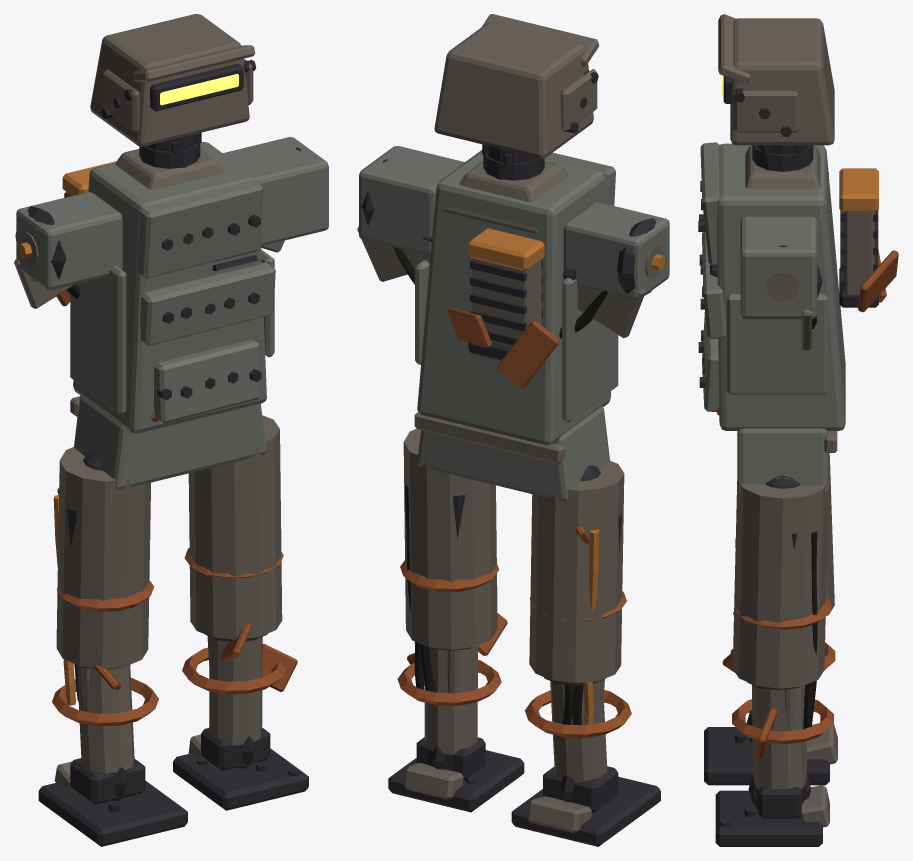
File: ch_bulwark.glb
The picture shows the model from 3 angles, left to right: view 1: azimuth 30°, elevation 25°; view 2: azimuth 150°, elevation 25°; view 3: azimuth 270°, elevation 25°; orthographic projection.
Visible parts, largest first — view 1: ch_bulwark, limb_leg_l, limb_leg_r; view 2: ch_bulwark, limb_leg_l, limb_leg_r; view 3: ch_bulwark, limb_leg_r, limb_leg_l.
Part boxes in pixels (bbox=[...]): ch_bulwark: bbox=[14, 14, 328, 489]; limb_leg_l: bbox=[38, 447, 187, 846]; limb_leg_r: bbox=[173, 415, 308, 810]; ch_bulwark: bbox=[357, 14, 669, 501]; limb_leg_l: bbox=[511, 460, 660, 846]; limb_leg_r: bbox=[388, 428, 524, 812]; ch_bulwark: bbox=[698, 14, 898, 494]; limb_leg_r: bbox=[715, 475, 833, 846]; limb_leg_l: bbox=[704, 453, 837, 785].
Bounding box in the file's own units: 0.3569 × 0.8874 × 0.2131.
